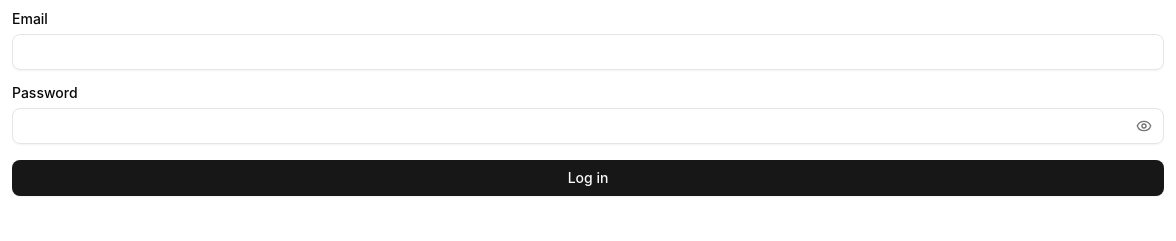
Test: LoginForm › shows a validation error when the password is empty
The image size is (1176, 241).
Type "ameen@example.com" into the field labelled "Email" at (588, 52), box x1=12 y1=34 x2=1164 y2=70
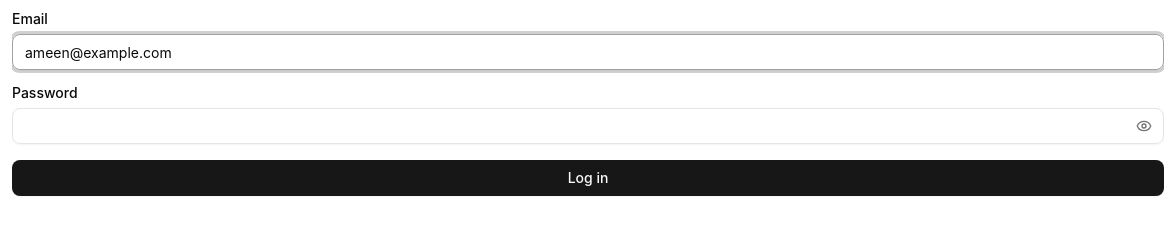
Click the button "Log in" at (588, 178), box x1=12 y1=160 x2=1164 y2=196
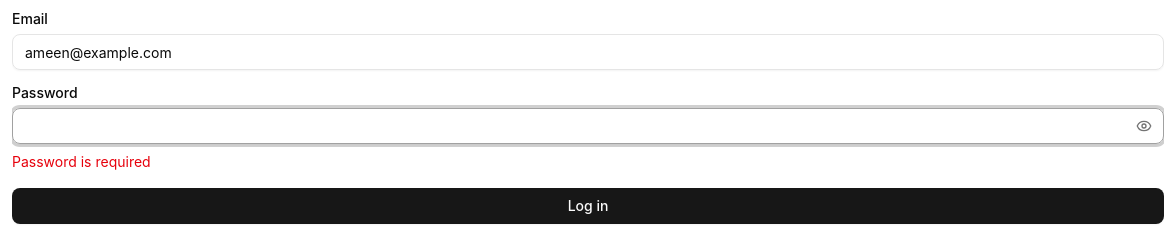
Expected: the text "Password is required" is shown, x1=12 y1=153 x2=151 y2=170
